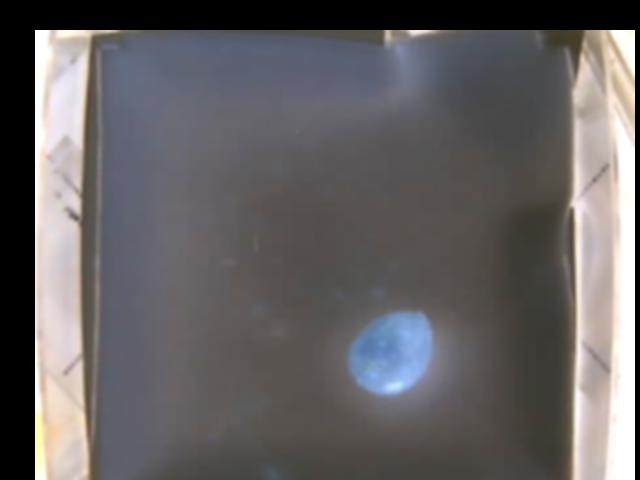Potato: (348, 312, 429, 394)
